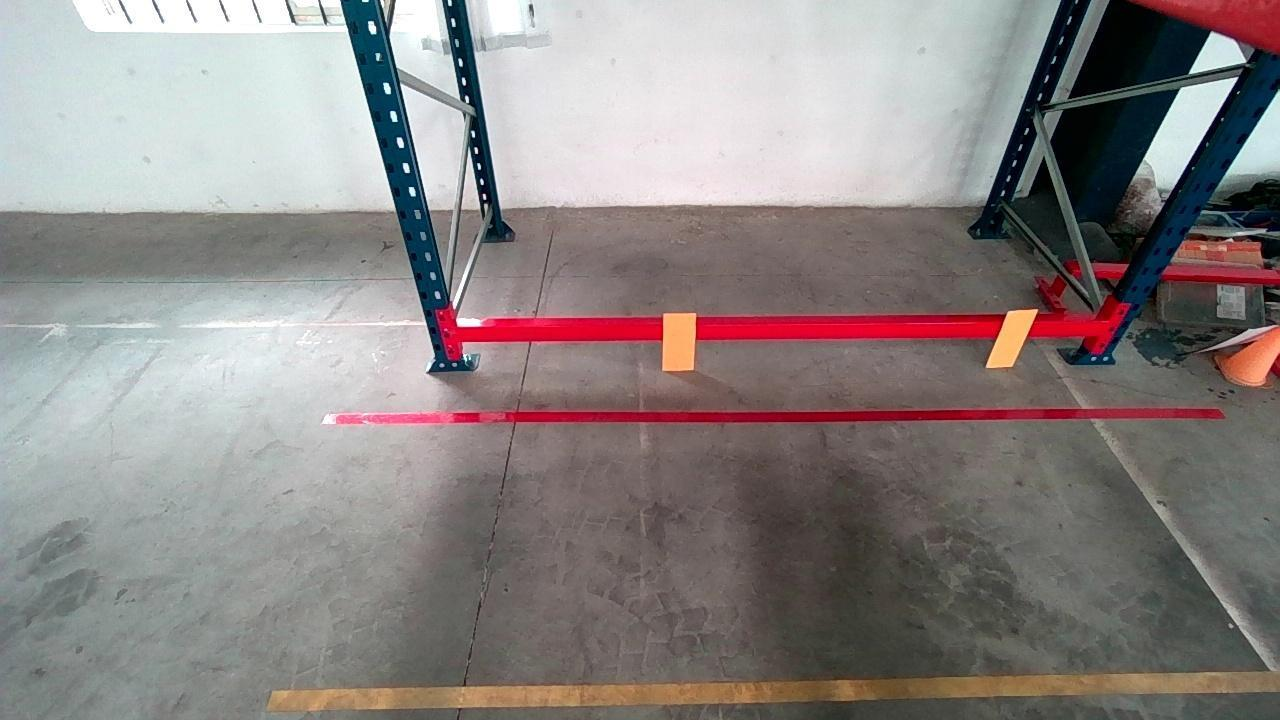h_rack: (457, 320, 1109, 341)
orange_strip: (987, 308, 1040, 367), (663, 311, 697, 369)
red_line: (318, 408, 1221, 425)
yellow_line: (282, 668, 1280, 720)
